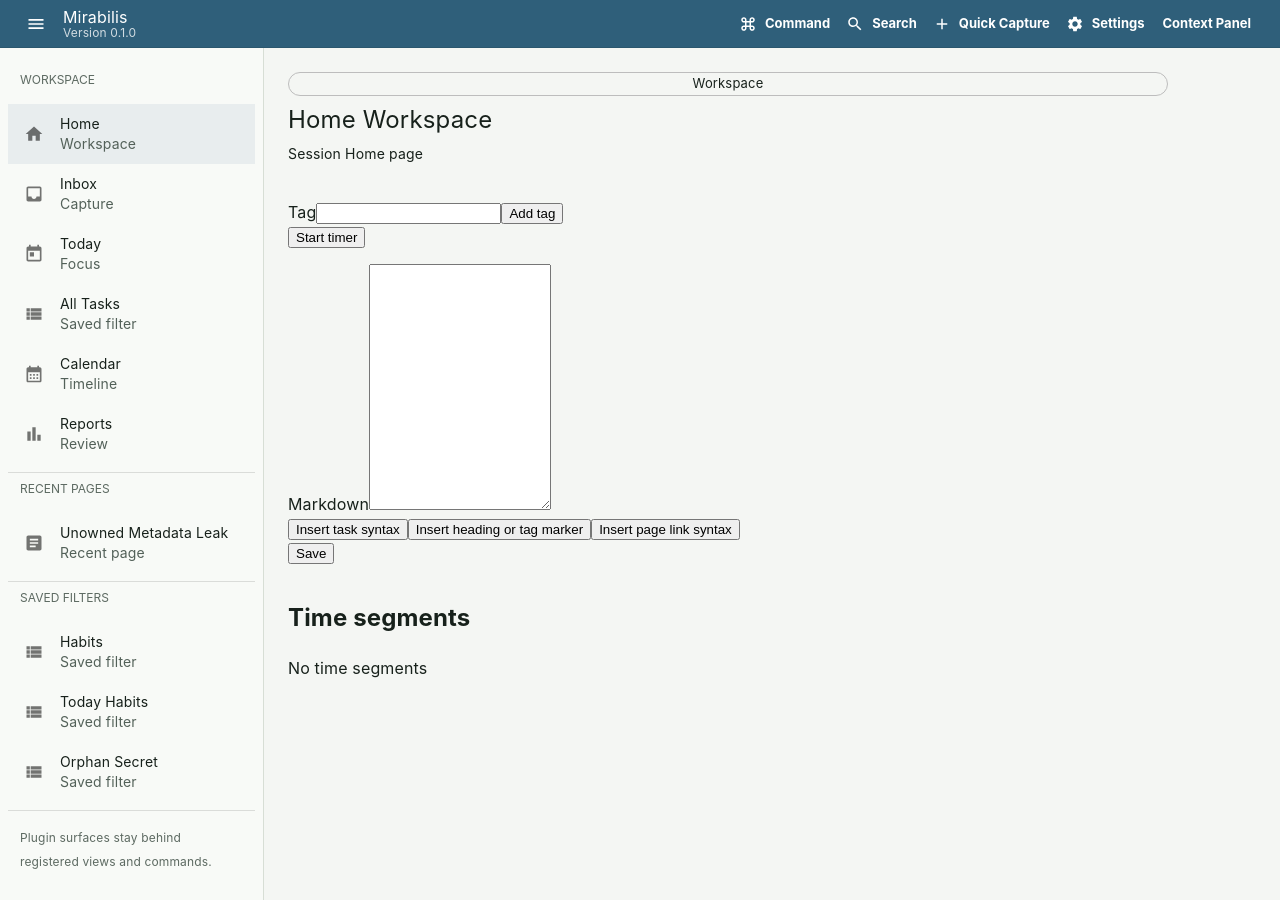
Scenario: TASK-038 sidebar page and saved-filter navigation › fails closed when an active saved filter queries a metadata namespace with no declared owner
The image size is (1280, 900).
Click the button "Orphan Secret Saved filter".
click(91, 772)  # box [24,753,158,790]
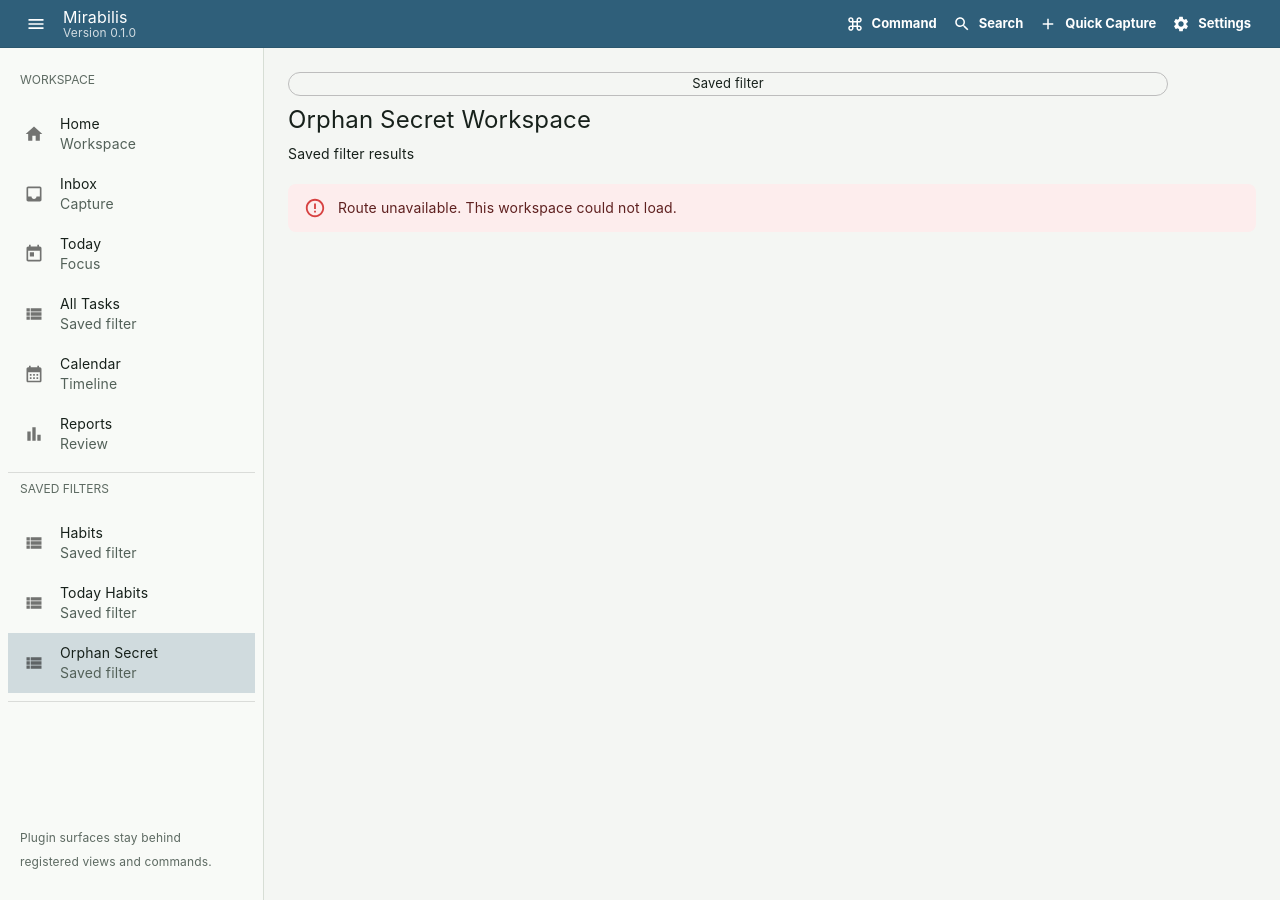
Now the text "Route unavailable. This workspace could not load." is shown, box [338,199,677,216]
Now the text "Unowned Metadata Leak" is gone
